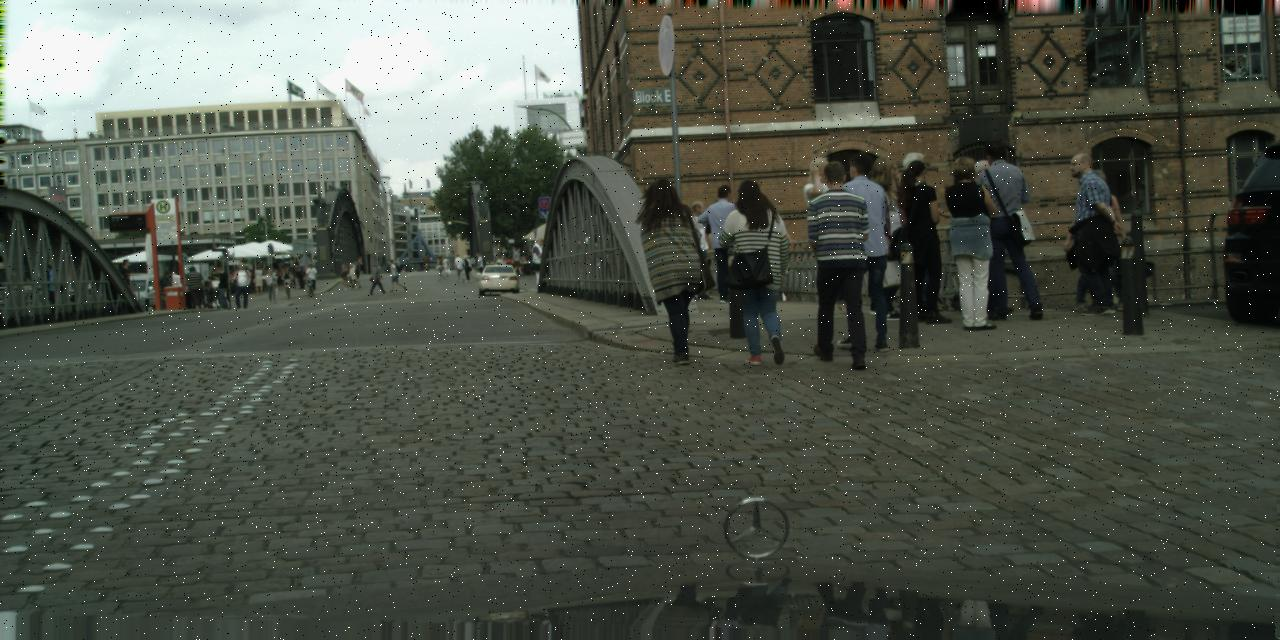ped: (797, 161, 879, 363), (824, 151, 905, 350), (636, 177, 713, 364), (720, 180, 796, 364), (969, 140, 1042, 319), (933, 157, 1003, 329), (885, 152, 951, 314), (888, 160, 954, 322), (1059, 152, 1124, 313), (850, 157, 915, 317), (794, 156, 858, 312), (952, 160, 1013, 310), (1070, 169, 1128, 310), (702, 184, 749, 302), (701, 198, 743, 302), (678, 199, 718, 302), (243, 258, 286, 284), (529, 236, 549, 284), (232, 262, 250, 308), (117, 259, 135, 304), (212, 267, 230, 309), (187, 266, 204, 310), (175, 268, 191, 308), (264, 269, 278, 301), (388, 258, 400, 290), (252, 265, 264, 295), (371, 264, 383, 294), (346, 262, 357, 288), (462, 254, 472, 282), (454, 254, 464, 282), (513, 248, 523, 274), (440, 254, 450, 280), (351, 261, 361, 287), (475, 253, 485, 278), (282, 267, 292, 292), (306, 264, 316, 289), (296, 265, 305, 289), (436, 256, 445, 280), (340, 264, 349, 288), (356, 256, 364, 274), (293, 258, 299, 274), (423, 252, 428, 266), (290, 267, 292, 274)
